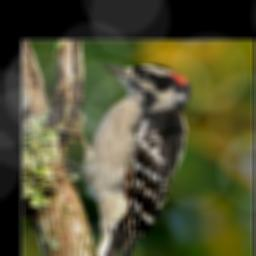Woodpecker: (59, 64, 195, 256)
